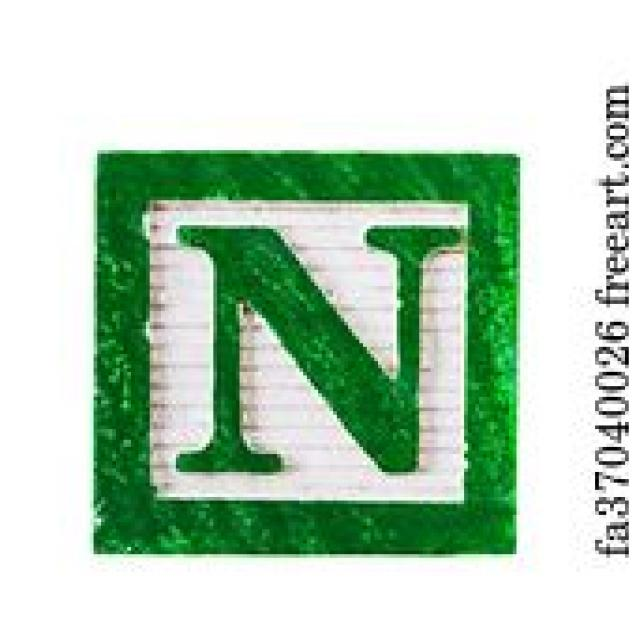N: (168, 212, 456, 486)
